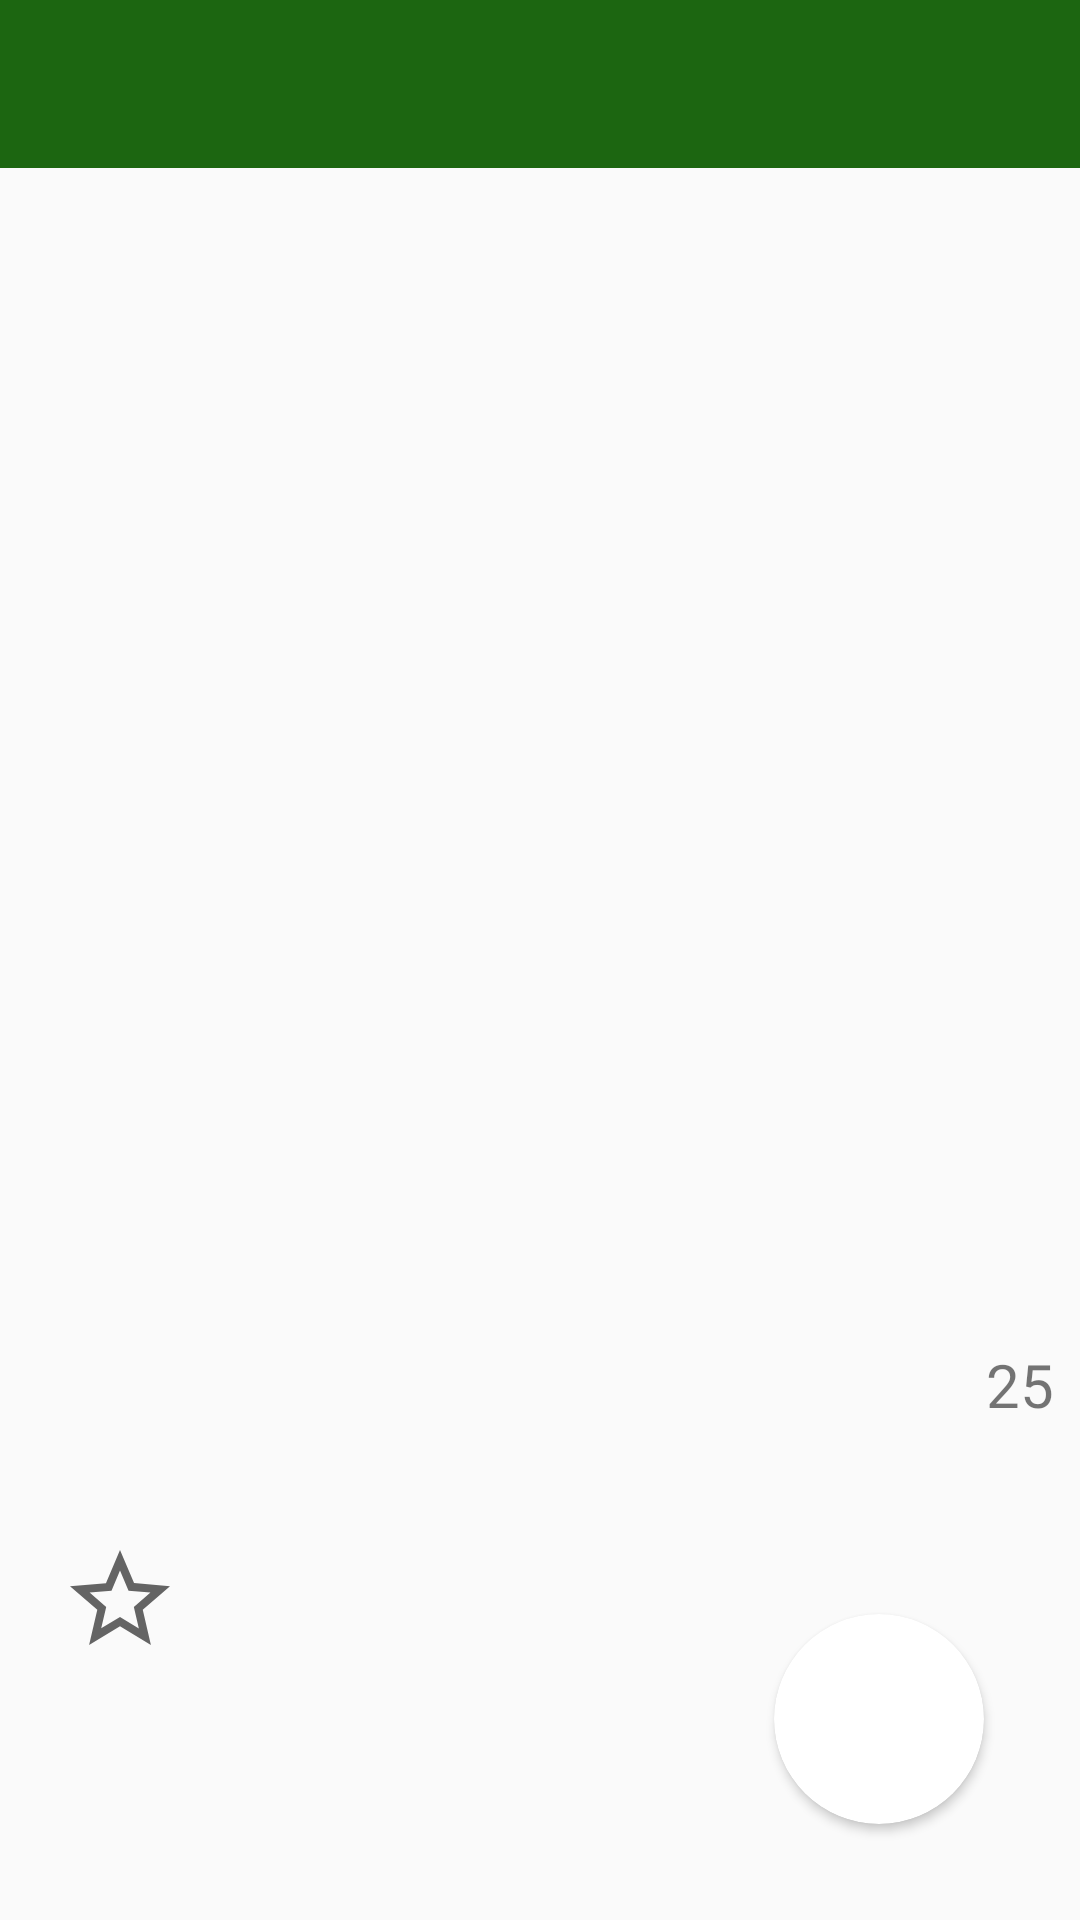

Screen size 1080*1920. Icon name, then its box in pixels as region(x1, y1, x2, y2):
star border: region(70, 1550, 170, 1645)
